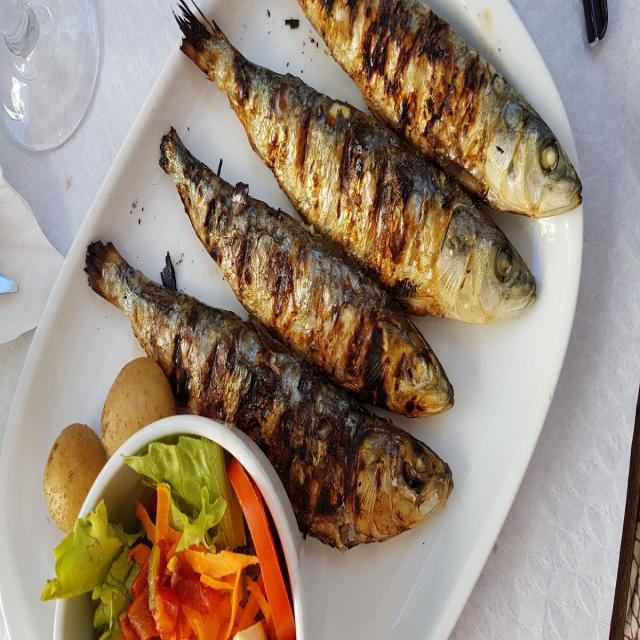pescado: (166, 1, 590, 352), (76, 227, 461, 569), (156, 117, 464, 438)
